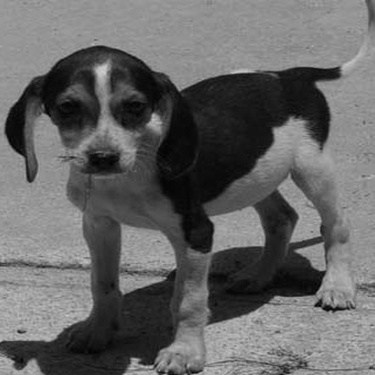dog: (1, 27, 372, 372)
